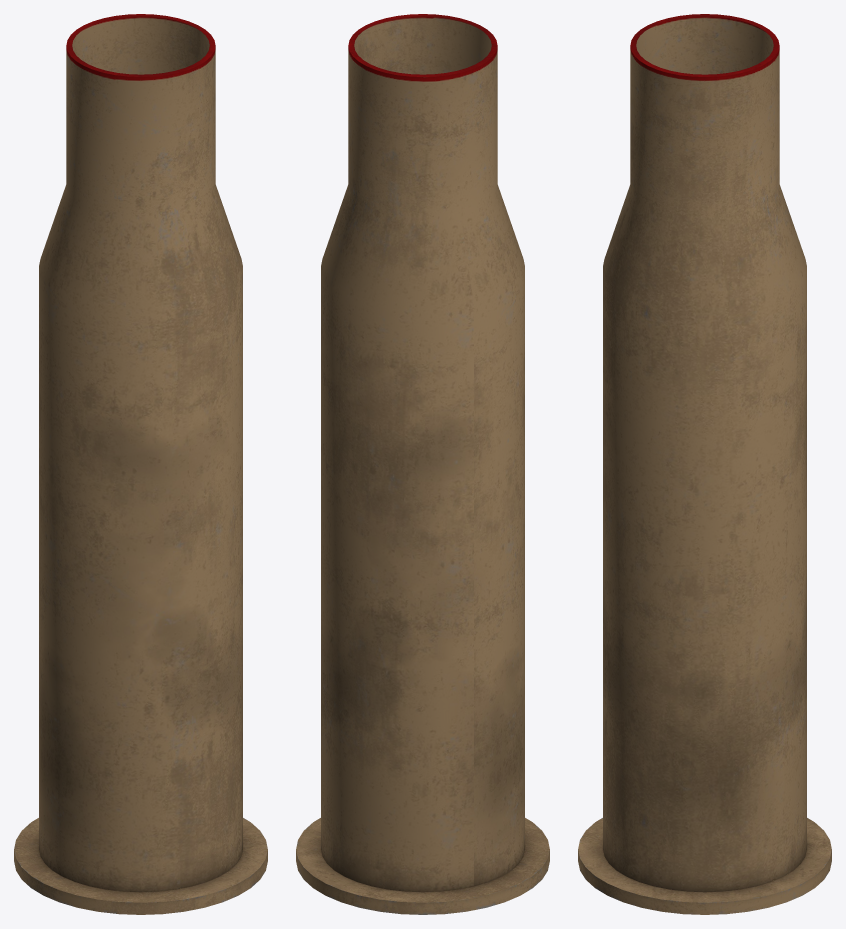
The model's file is 7.62x54mm R BT gzh(used).glb.
3 views of the same model, side by side, from view 1: azimuth 30°, elevation 25°; view 2: azimuth 150°, elevation 25°; view 3: azimuth 270°, elevation 25° (orthographic).
Visible parts, largest first — view 1: 7_62x54r_4_1; view 2: 7_62x54r_4_1; view 3: 7_62x54r_4_1.
Part boxes in pixels (<box>): 7_62x54r_4_1: <box>14,14,267,914</box>; 7_62x54r_4_1: <box>296,14,549,914</box>; 7_62x54r_4_1: <box>578,14,831,914</box>.
Bounding box in the file's own units: 0.0866 × 0.312 × 0.0866.
1 material, 1 textured.
